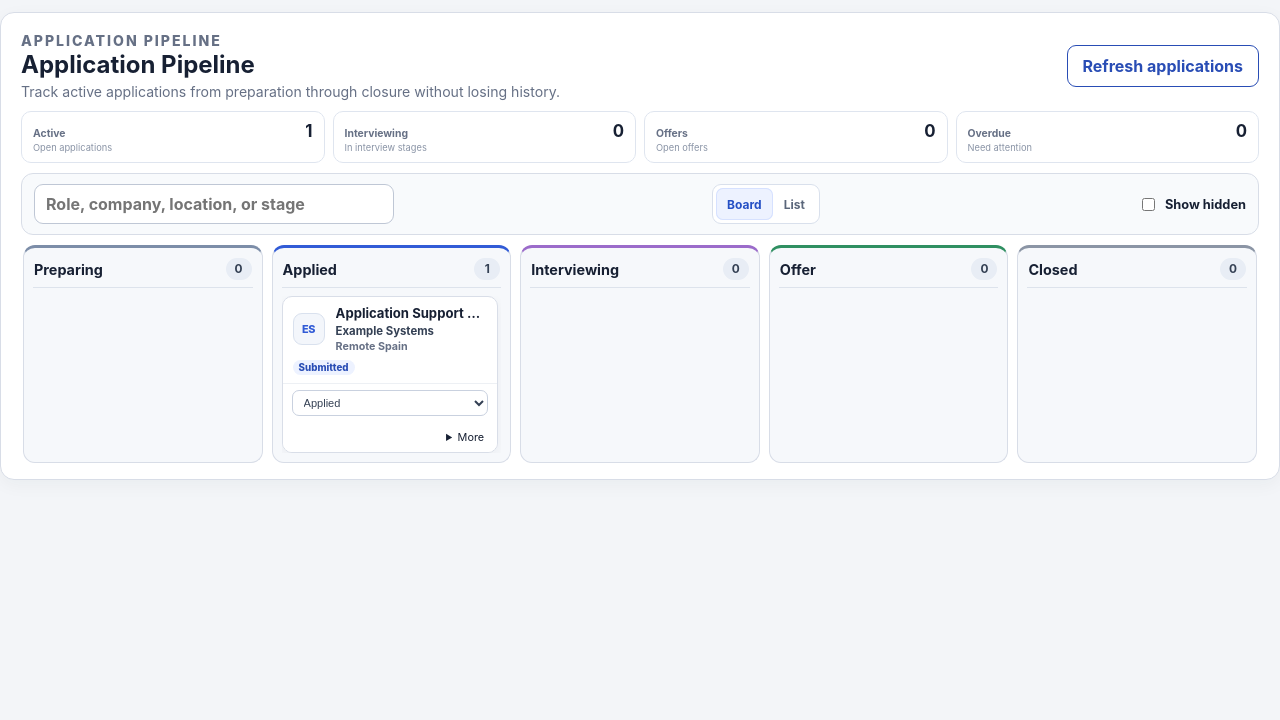
Application workspace work items › loads persisted Tasks, Interviews, and Timeline panels
Click the button with aria-label "Open Application Support Engineer". click: click(390, 340)
box: [283,297,497,383]
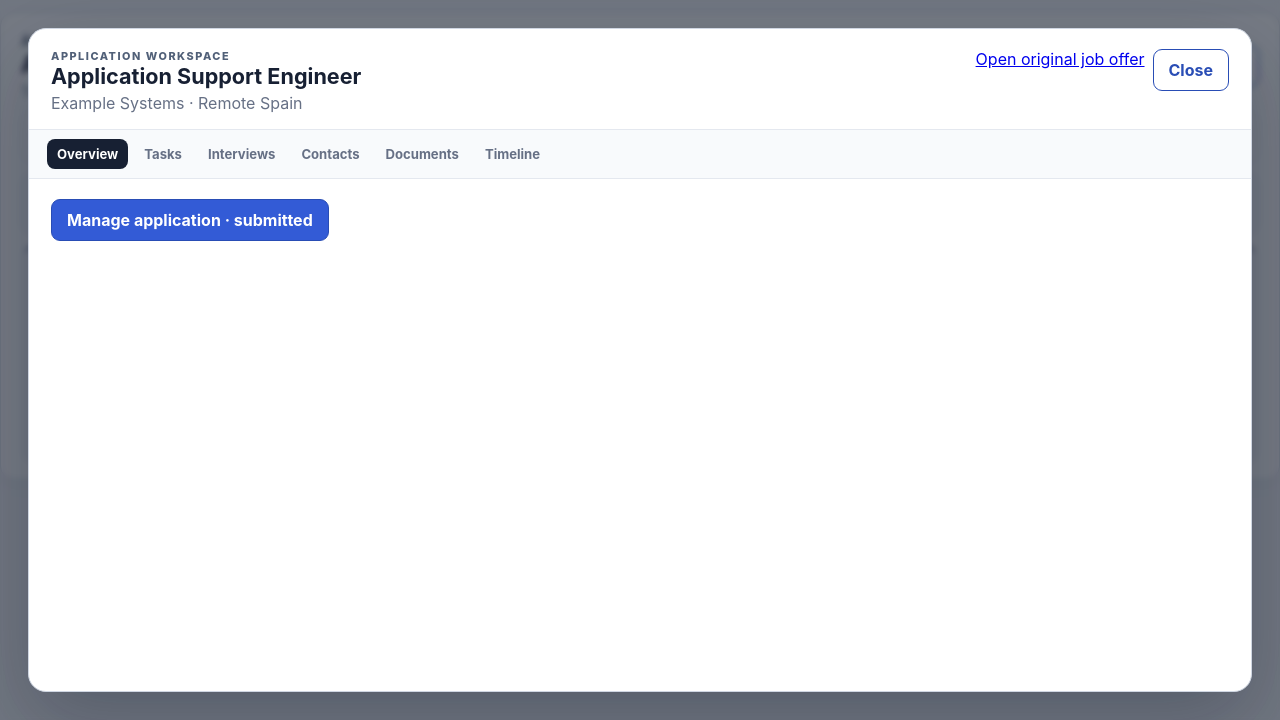
Result: the dialog "Application Support Engineer" is shown
Click the tab "Tasks". click: click(163, 154)
box: [134,139,192,169]
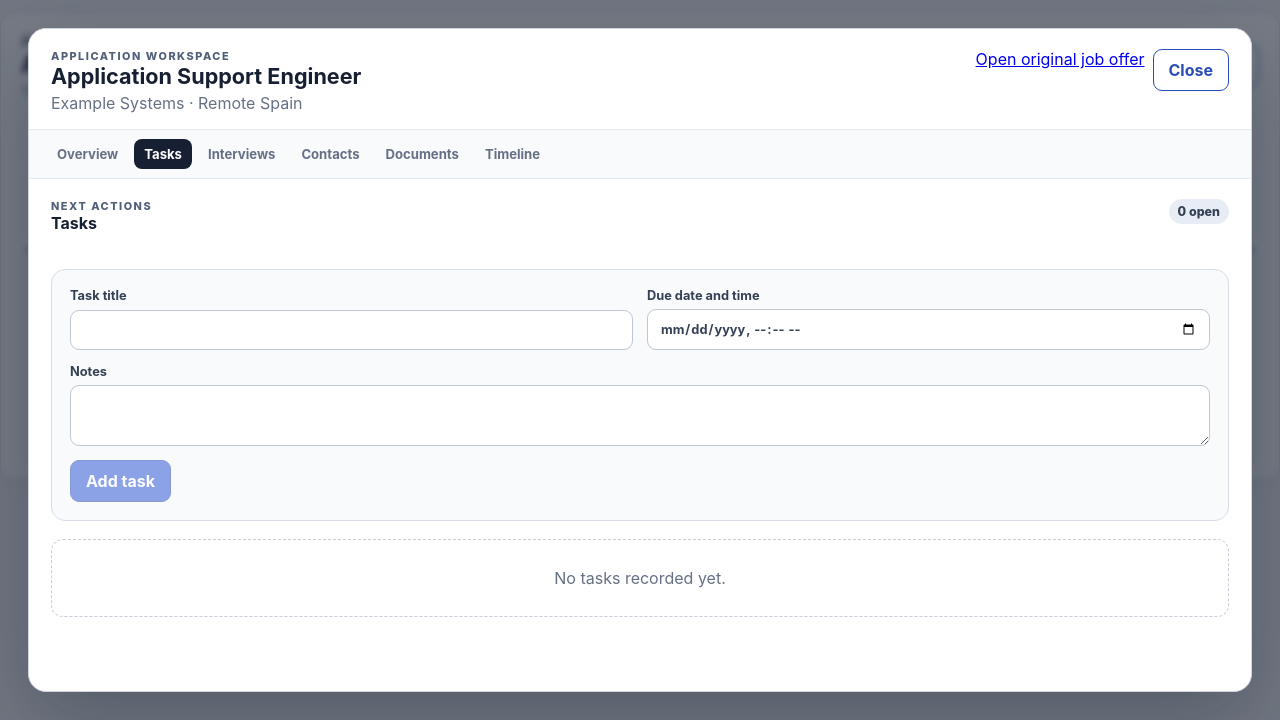
Result: the heading "Tasks" is shown at [51,213,97,233]
Result: the field labelled "Task title" is shown at [70,310,633,350]
Result: the text "No tasks recorded yet." is shown at [51,539,1229,617]
Click the tab "Interviews". click: click(242, 154)
box: [198,139,285,169]
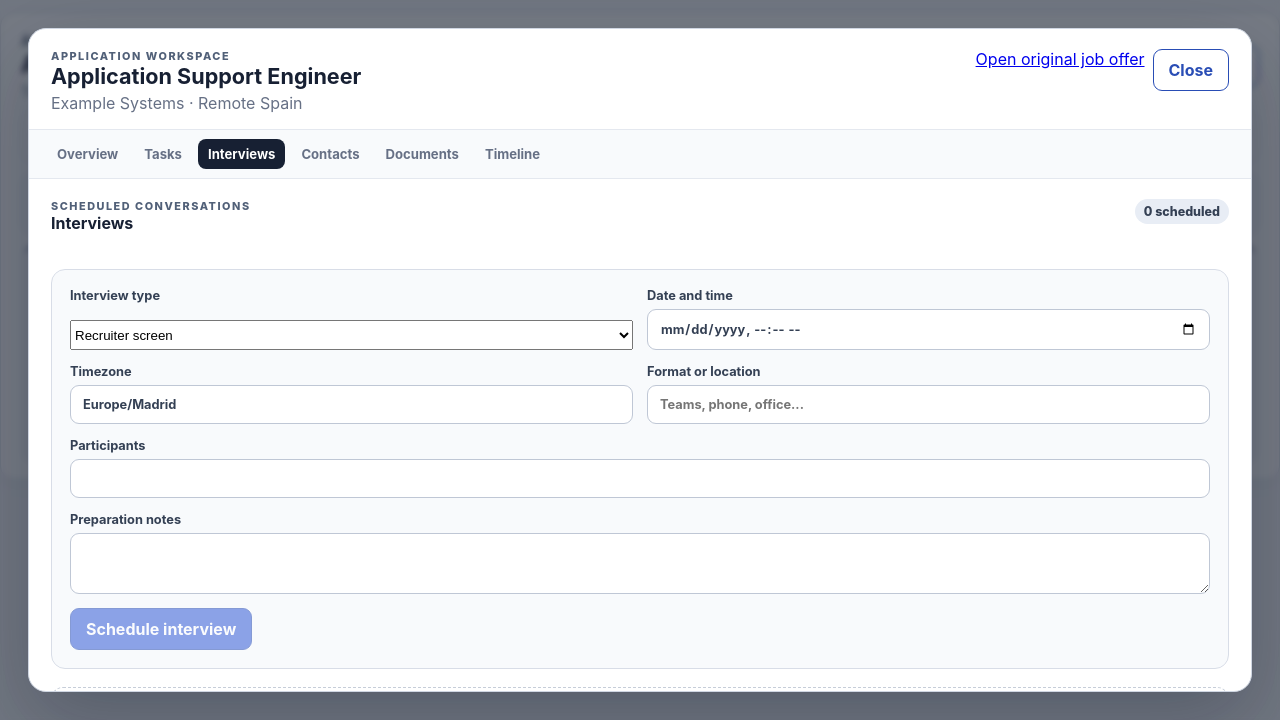
Result: the heading "Interviews" is shown at [51,213,133,233]
Result: the dropdown labelled "Interview type" is shown at [70,320,633,350]
Click the tab "Timeline". click: click(512, 154)
box: [475,139,550,169]
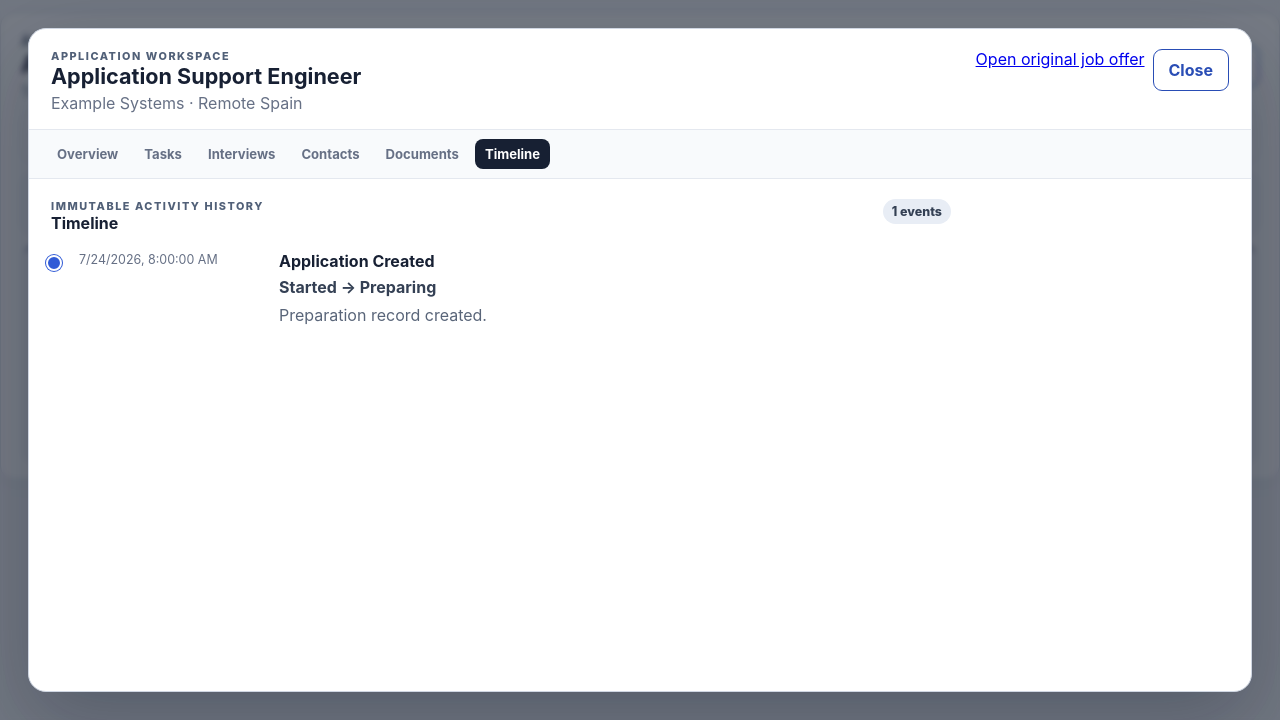
Result: the heading "Timeline" is shown at [51,213,118,233]
Result: the text "application created" is shown at [279,251,435,271]
